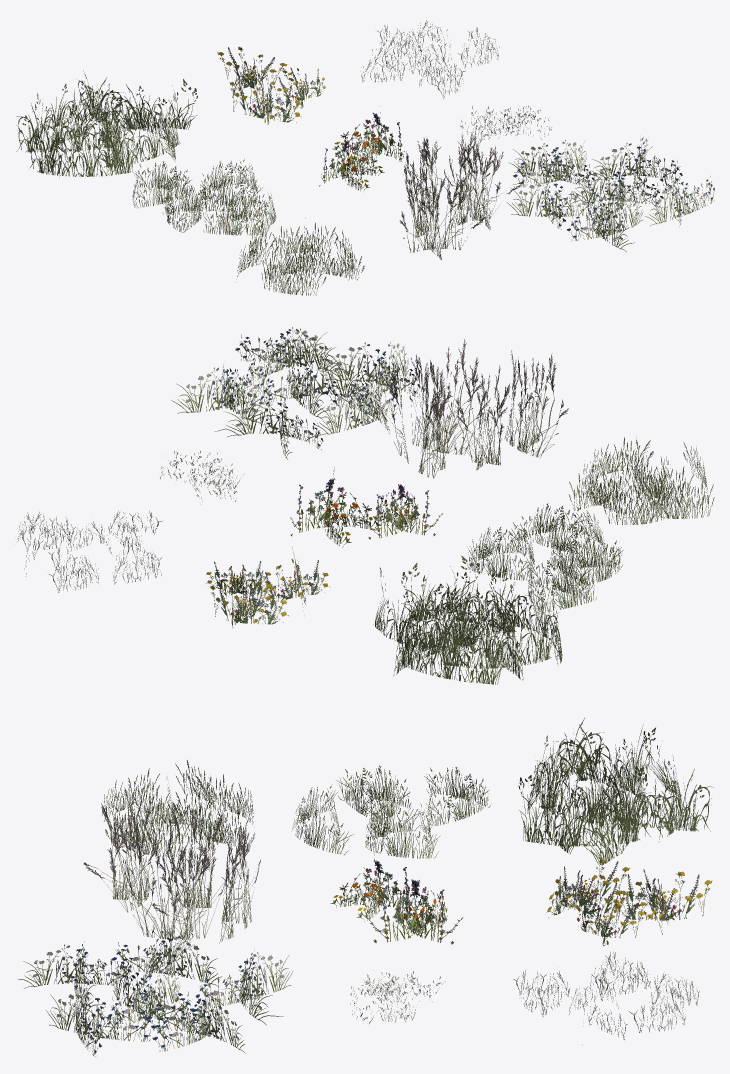
Rendered from flores_opt.glb.
3 renders of one model, top to bottom at view 1: azimuth 30°, elevation 25°; view 2: azimuth 150°, elevation 25°; view 3: azimuth 270°, elevation 25°, orthographic. The views are drawn at different scales.
Visible parts, largest first — view 1: Grass_Reeds_LOD0; view 2: Grass_Reeds_LOD0; view 3: Grass_Reeds_LOD0.
Part boxes in pixels (<box>): Grass_Reeds_LOD0: <box>16,20,714,295</box>; Grass_Reeds_LOD0: <box>16,327,714,684</box>; Grass_Reeds_LOD0: <box>18,717,713,1056</box>.
Size of the model in its own units: 12.73 by 2.16 by 13.
2 materials, 2 textured.
